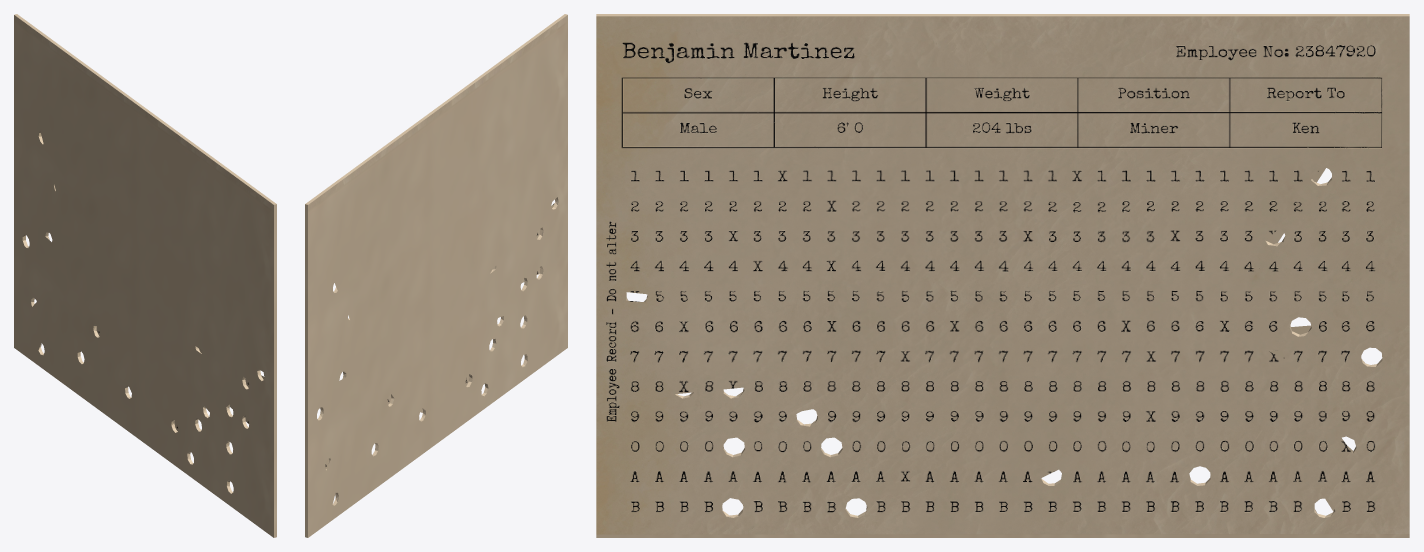
The model's file is employeeCard11Aadi.fbx.
3 views of the same model, side by side, from view 1: azimuth 30°, elevation 25°; view 2: azimuth 150°, elevation 25°; view 3: azimuth 270°, elevation 25° (orthographic). The views are drawn at different scales.
Parts seen in each view (by area): view 1: Employee 11 Card Puzzle Punched; view 2: Employee 11 Card Puzzle Punched; view 3: Employee 11 Card Puzzle Punched.
Part boxes in pixels (x1,y1,x2,y2): Employee 11 Card Puzzle Punched: [14, 14, 276, 537]; Employee 11 Card Puzzle Punched: [305, 14, 567, 537]; Employee 11 Card Puzzle Punched: [596, 14, 1409, 537].
Size of the model in its own units: 0.9779 by 100 by 141.
Materials: 1 (1 with a texture image).
